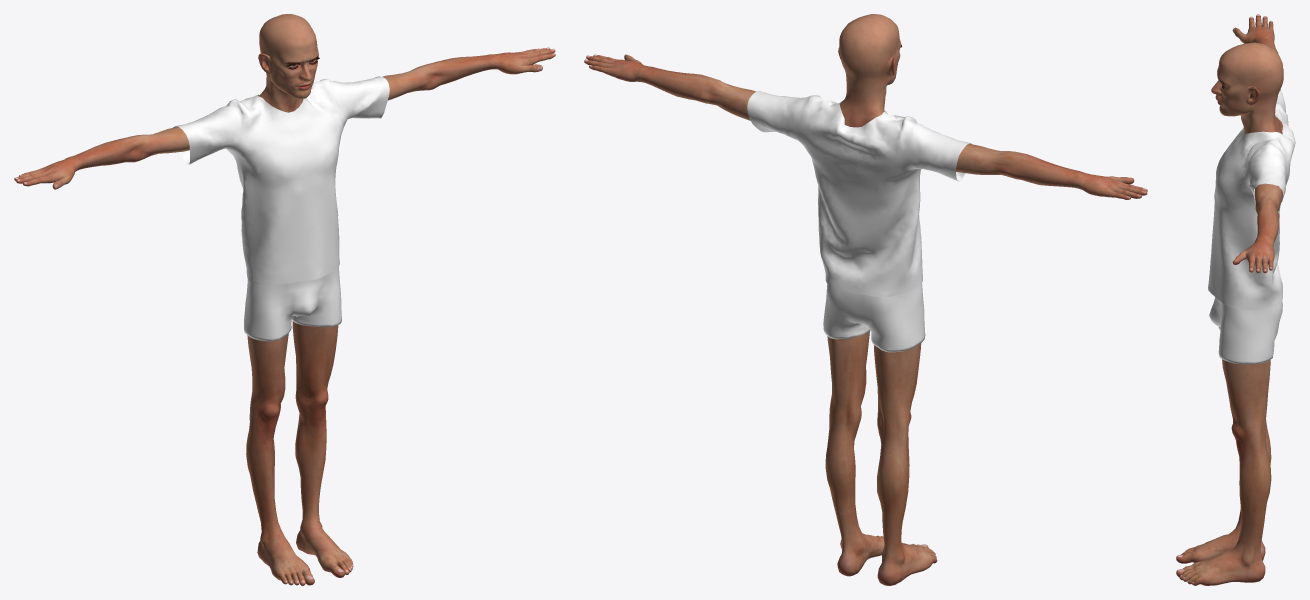
3 renders of one model, left to right at view 1: azimuth 30°, elevation 25°; view 2: azimuth 150°, elevation 25°; view 3: azimuth 270°, elevation 25°, orthographic. The views are drawn at different scales.
Visible parts, largest first — view 1: CC_Base_Body, Pattern2D_1872919, Boxers, Pattern2D_2639937, Pattern2D_2639936, Pattern2D_1872920; view 2: CC_Base_Body, Pattern2D_1872920, Boxers, Pattern2D_2639937, Pattern2D_2639936, Pattern2D_1872919; view 3: CC_Base_Body, Pattern2D_1872919, Boxers, Pattern2D_1872920, Pattern2D_2639936.
Part boxes in pixels (x1,y1,x2,y2): CC_Base_Body: (14,14,555,585); Pattern2D_1872919: (231,79,345,285); Boxers: (244,266,341,341); Pattern2D_2639937: (173,102,242,164); Pattern2D_2639936: (329,76,389,122); Pattern2D_1872920: (227,79,328,279); CC_Base_Body: (584,14,1147,585); Pattern2D_1872920: (796,96,919,296); Boxers: (823,283,925,352); Pattern2D_2639937: (902,121,971,181); Pattern2D_2639936: (747,91,809,140); Pattern2D_1872919: (811,95,922,287); CC_Base_Body: (1176,14,1283,585); Pattern2D_1872919: (1208,127,1271,309); Boxers: (1209,297,1282,364); Pattern2D_1872920: (1244,103,1295,309); Pattern2D_2639936: (1245,147,1286,205).
Bounding box in the file's own units: 1.84 × 1.76 × 0.3612.
Materials: 18 (13 with a texture image).
